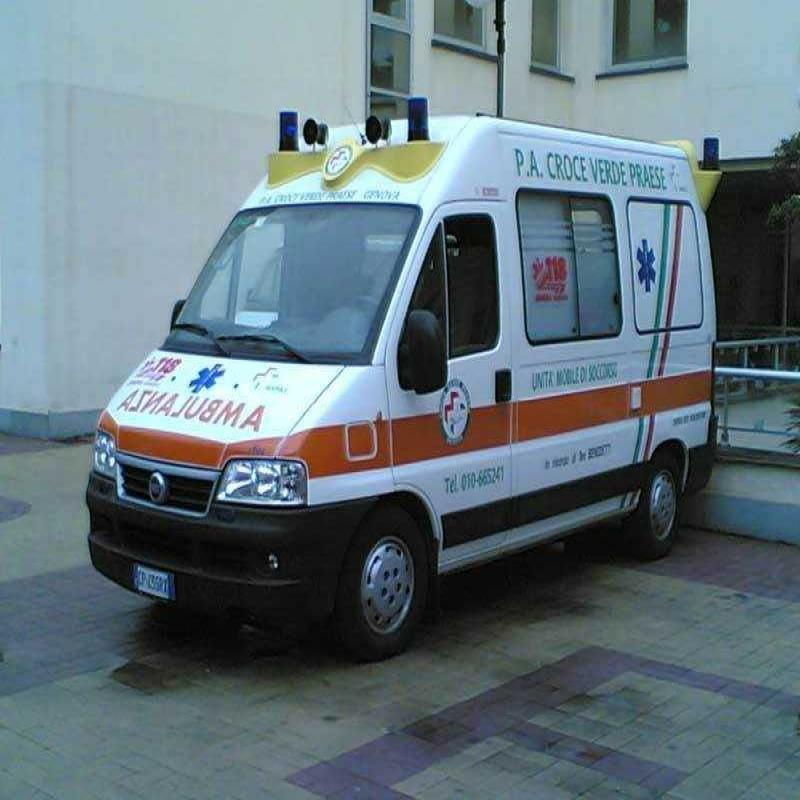AmbulanceSiren: (256, 95, 309, 166), (390, 80, 440, 152)
ambulance: (69, 94, 732, 590)
